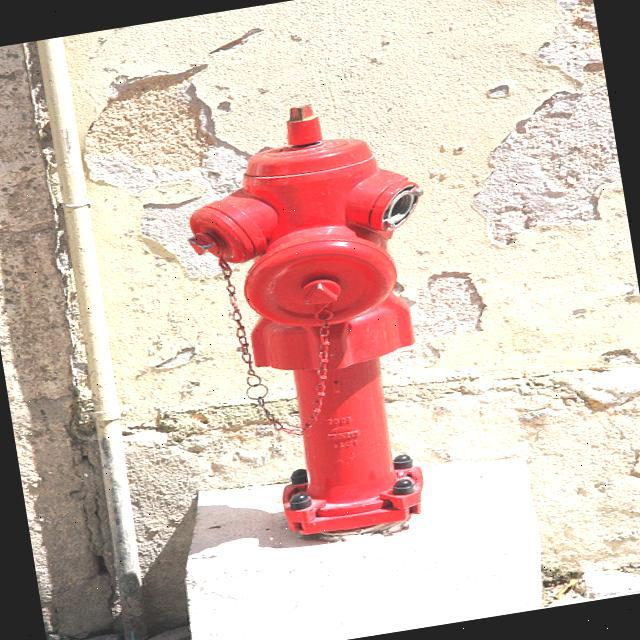fire_hydrant: (170, 90, 477, 552)
